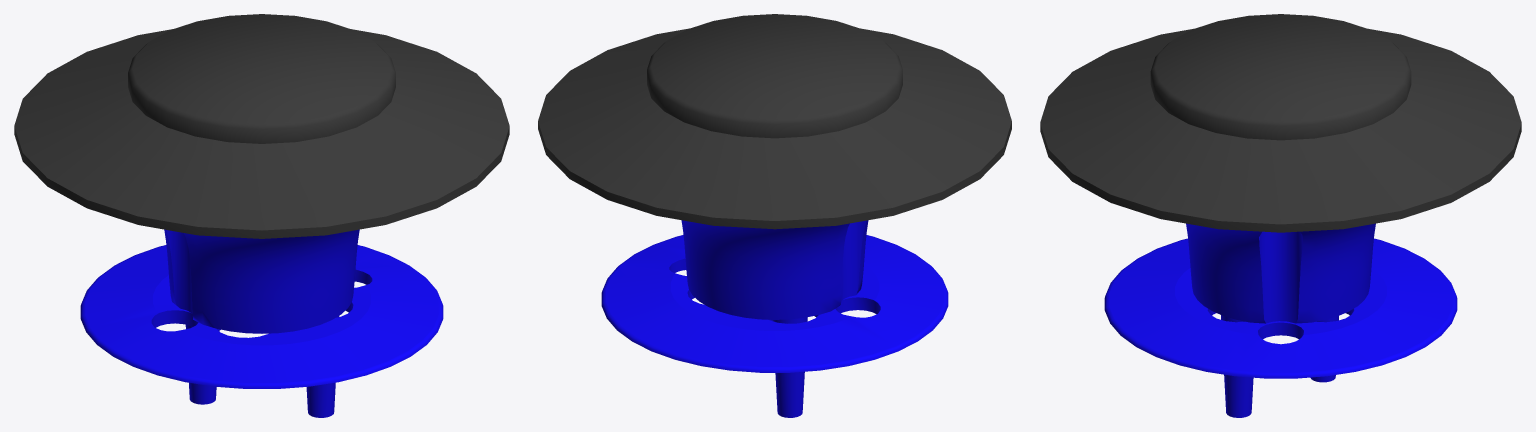
The model's file is SM_PopBumperBase.FBX.
The picture shows the model from 3 angles, left to right: view 1: azimuth 30°, elevation 25°; view 2: azimuth 150°, elevation 25°; view 3: azimuth 270°, elevation 25°; orthographic projection. The views are drawn at different scales.
Visible parts, largest first — view 1: SM_PopBumperBase; view 2: SM_PopBumperBase; view 3: SM_PopBumperBase.
Part boxes in pixels (x1,y1,x2,y2): SM_PopBumperBase: (14,14,509,417); SM_PopBumperBase: (538,14,1011,417); SM_PopBumperBase: (1040,14,1521,417).
Bounding box in the file's own units: 328 × 328 × 247.
